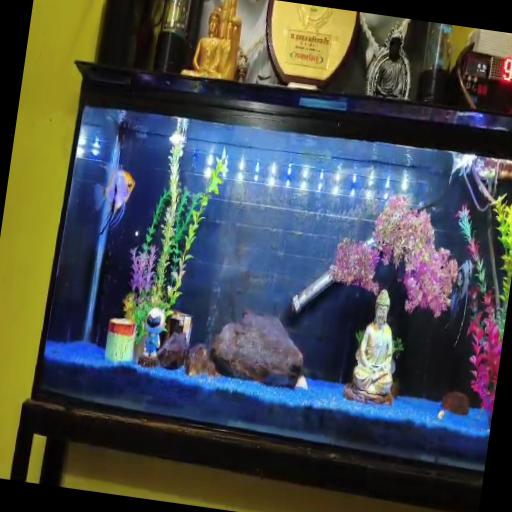Fish: (94, 167, 135, 235), (450, 260, 473, 346)
